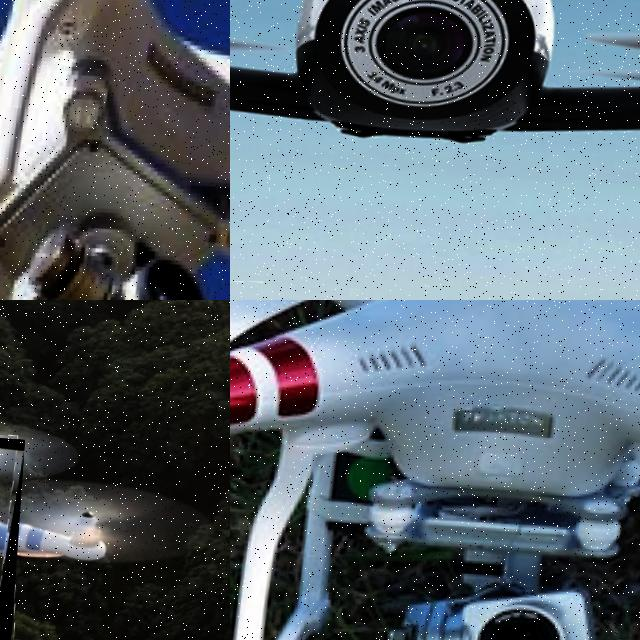drone: (230, 300, 640, 640), (230, 0, 640, 300), (0, 0, 230, 300)
